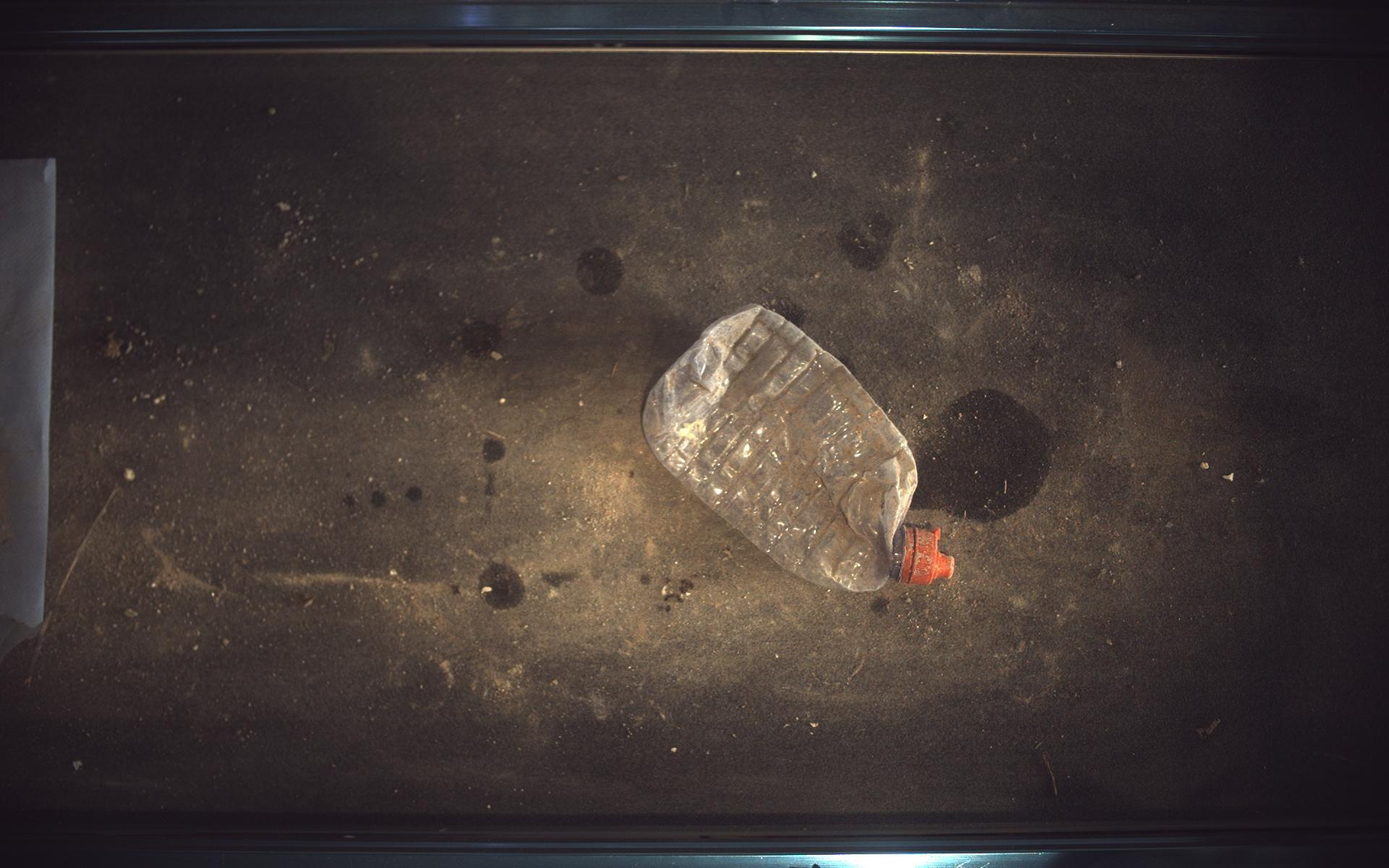general_w: (644, 305, 955, 592)
